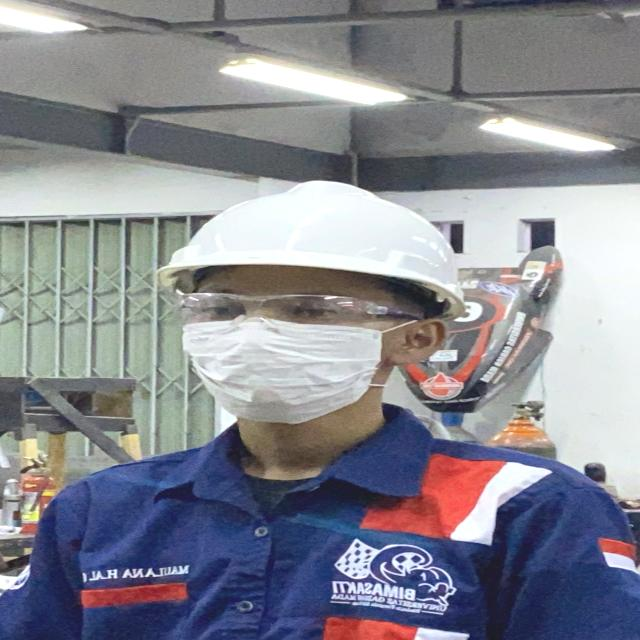face_mask: (173, 284, 401, 424)
glasses: (171, 284, 424, 335)
head_helmet: (147, 174, 477, 301)
person: (0, 175, 639, 639)
